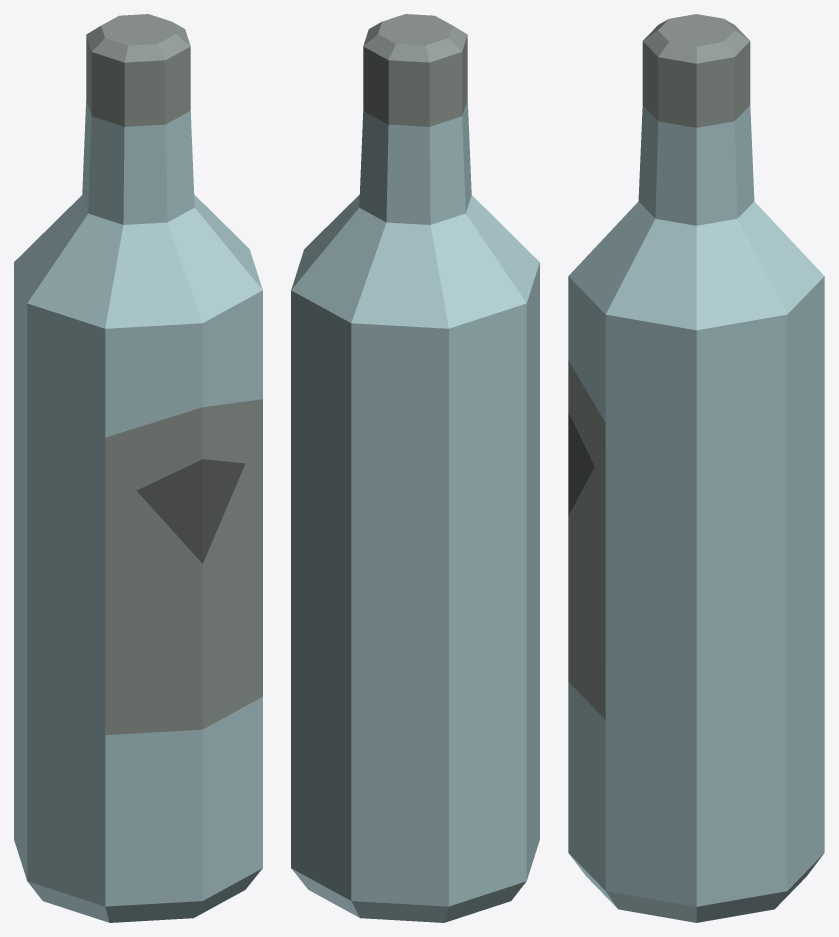
Rendered from SM_Prop_Bar_Bottle_04_GLASS.obj.
3 views of the same model, side by side, from view 1: azimuth 30°, elevation 25°; view 2: azimuth 150°, elevation 25°; view 3: azimuth 270°, elevation 25° (orthographic).
Parts seen in each view (by area): view 1: SM_Prop_Bar_Bottle_04_GLASS_0, SM_Prop_Bar_Bottle_04_GLASS_1; view 2: SM_Prop_Bar_Bottle_04_GLASS_0, SM_Prop_Bar_Bottle_04_GLASS_1; view 3: SM_Prop_Bar_Bottle_04_GLASS_0, SM_Prop_Bar_Bottle_04_GLASS_1.
Boxes of the visible parts, x1,y1,x2,y2 form: SM_Prop_Bar_Bottle_04_GLASS_0: (14, 100, 262, 922); SM_Prop_Bar_Bottle_04_GLASS_1: (86, 14, 262, 735); SM_Prop_Bar_Bottle_04_GLASS_0: (291, 100, 539, 922); SM_Prop_Bar_Bottle_04_GLASS_1: (363, 14, 467, 126); SM_Prop_Bar_Bottle_04_GLASS_0: (568, 105, 824, 922); SM_Prop_Bar_Bottle_04_GLASS_1: (568, 14, 750, 719).
Size of the model in its own units: 0.1224 by 0.4459 by 0.1224.
2 materials, 1 textured.
